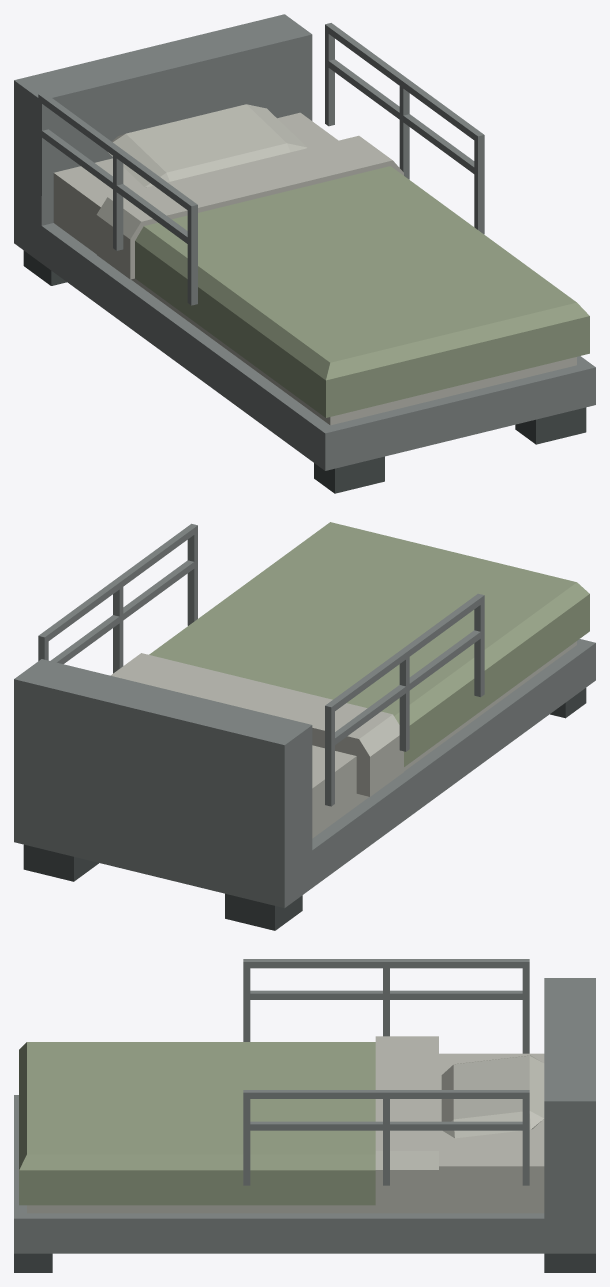
The model's file is bed_hospital.glb.
3 renders of one model, top to bottom at view 1: azimuth 30°, elevation 25°; view 2: azimuth 150°, elevation 25°; view 3: azimuth 270°, elevation 25°, orthographic. The views are drawn at different scales.
Visible parts, largest first — view 1: prop; view 2: prop; view 3: prop.
Part boxes in pixels (x1,y1,x2,y2): prop: (14, 14, 595, 493); prop: (14, 522, 595, 930); prop: (14, 959, 595, 1272).
Size of the model in its own units: 1.11 by 0.7366 by 2.05.
